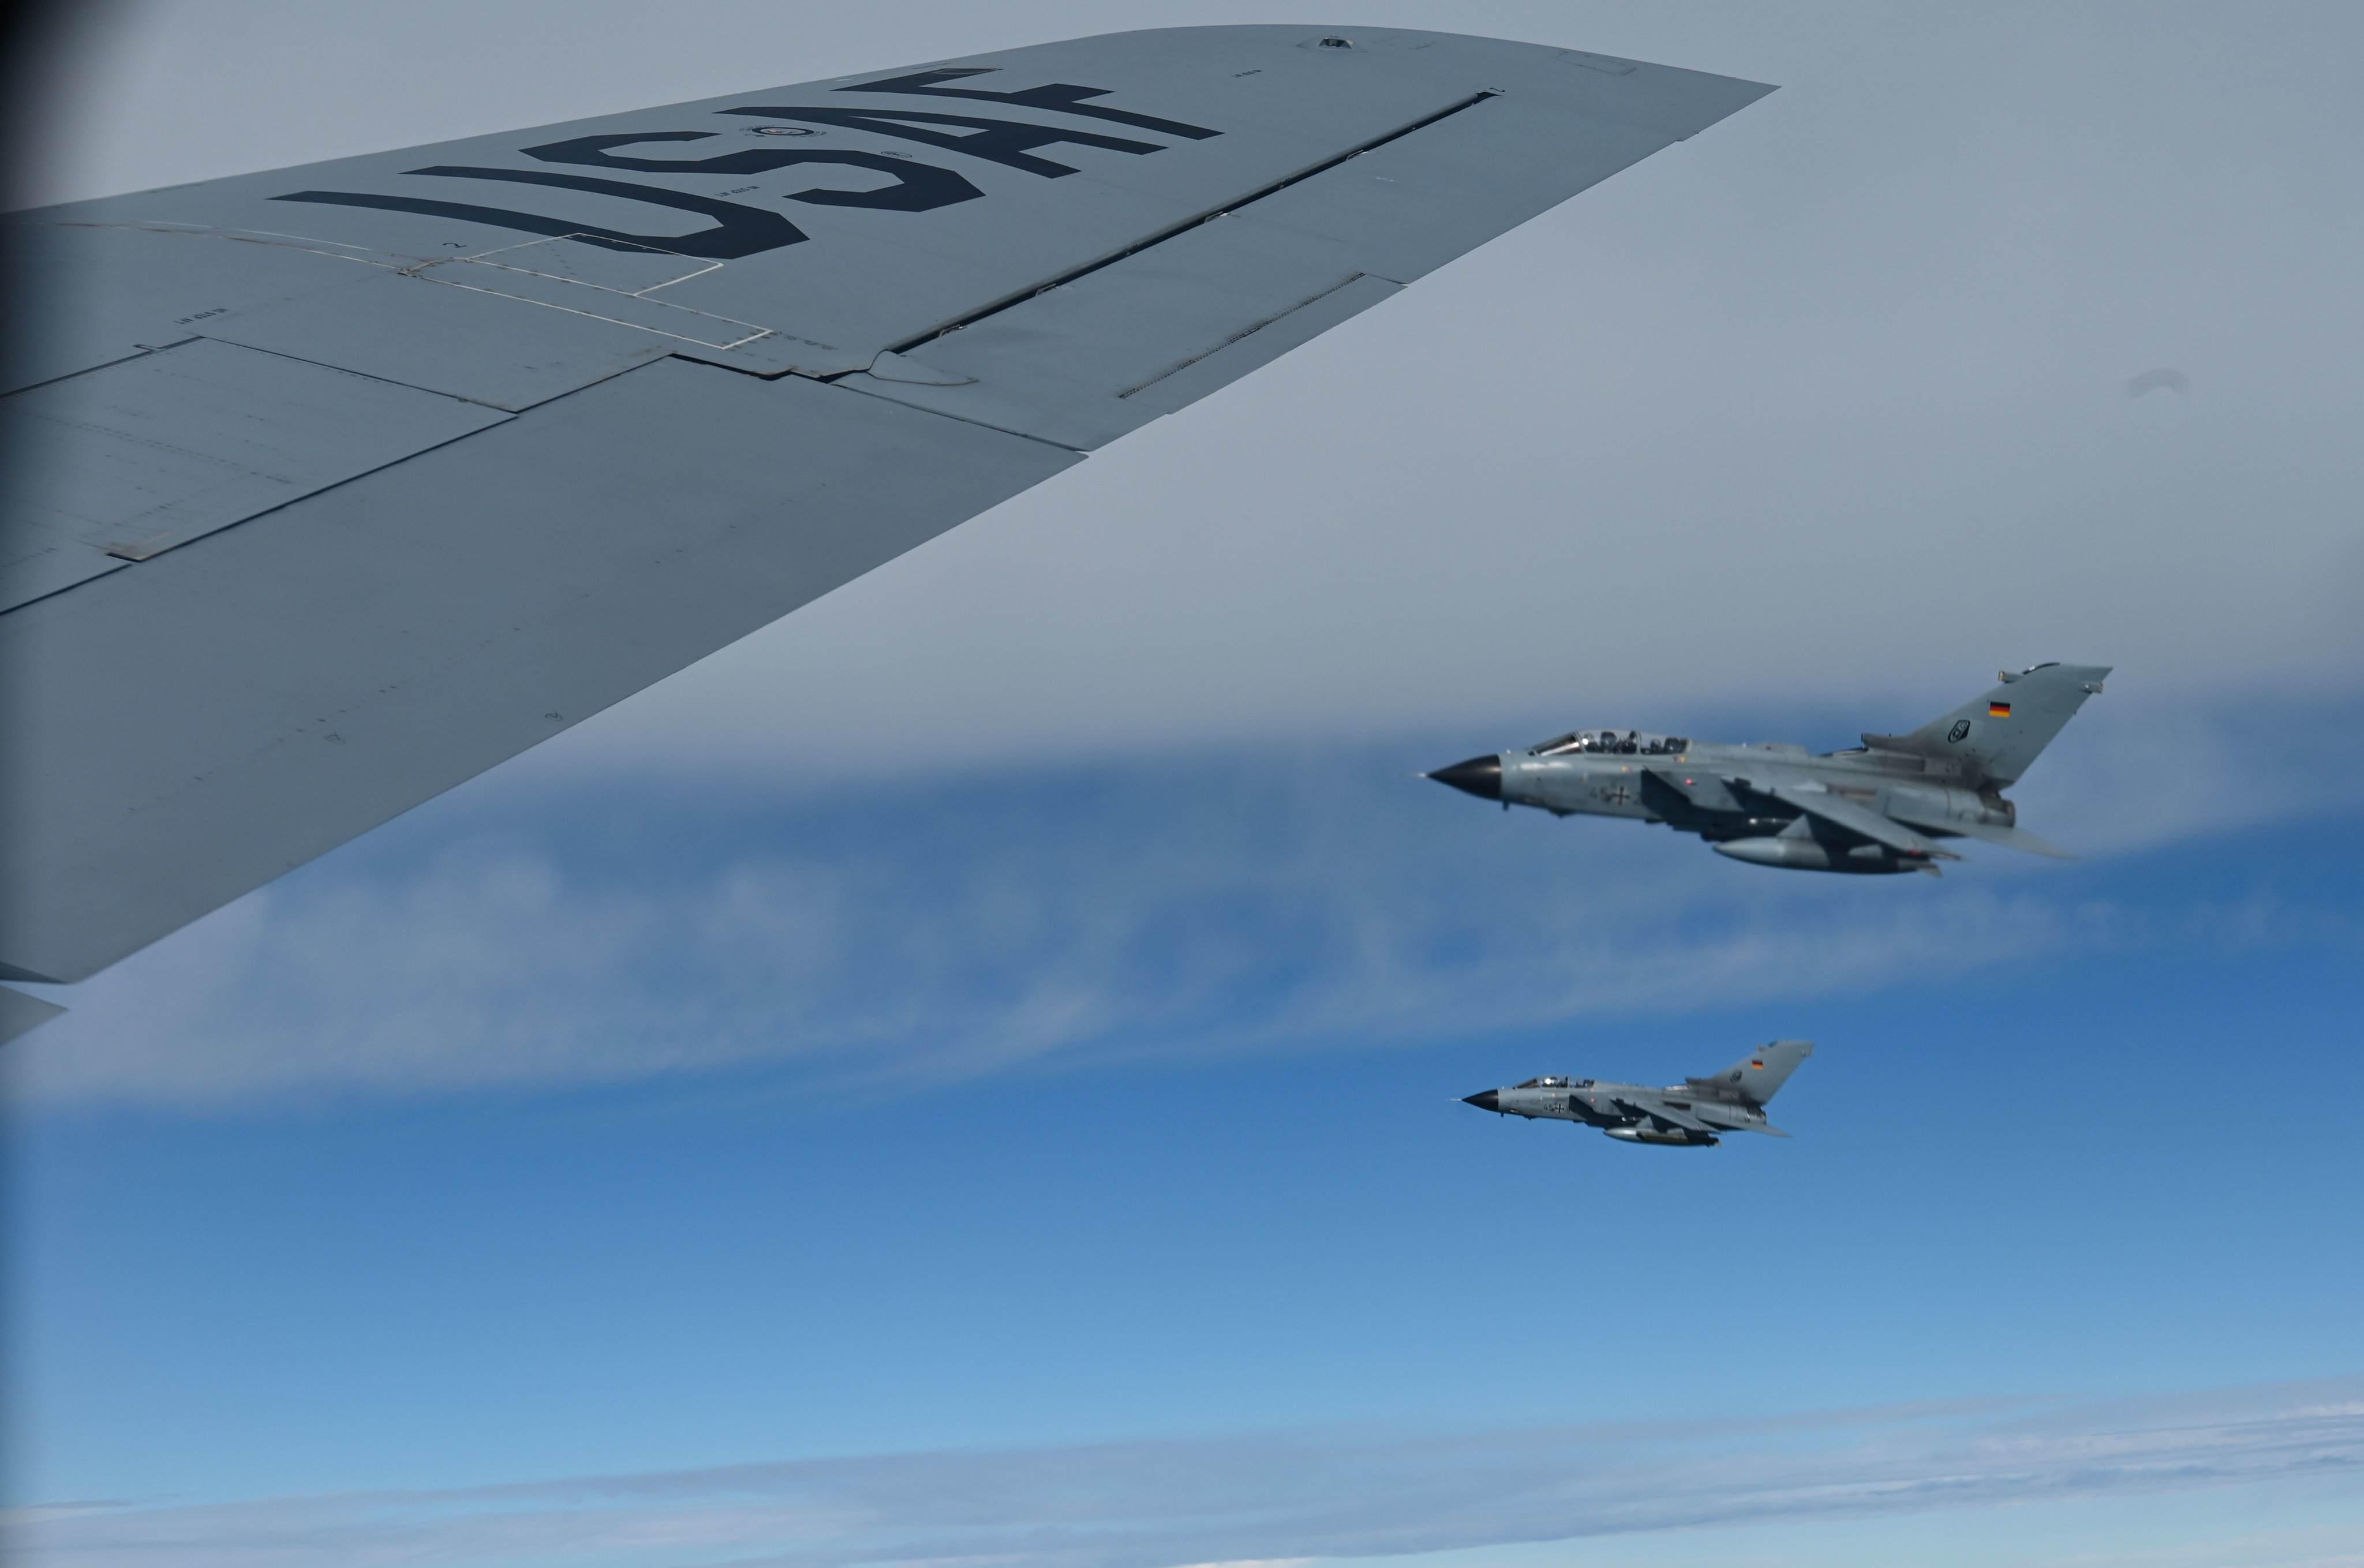Tornado: (1396, 661, 2114, 878), (1444, 1038, 1816, 1148)
